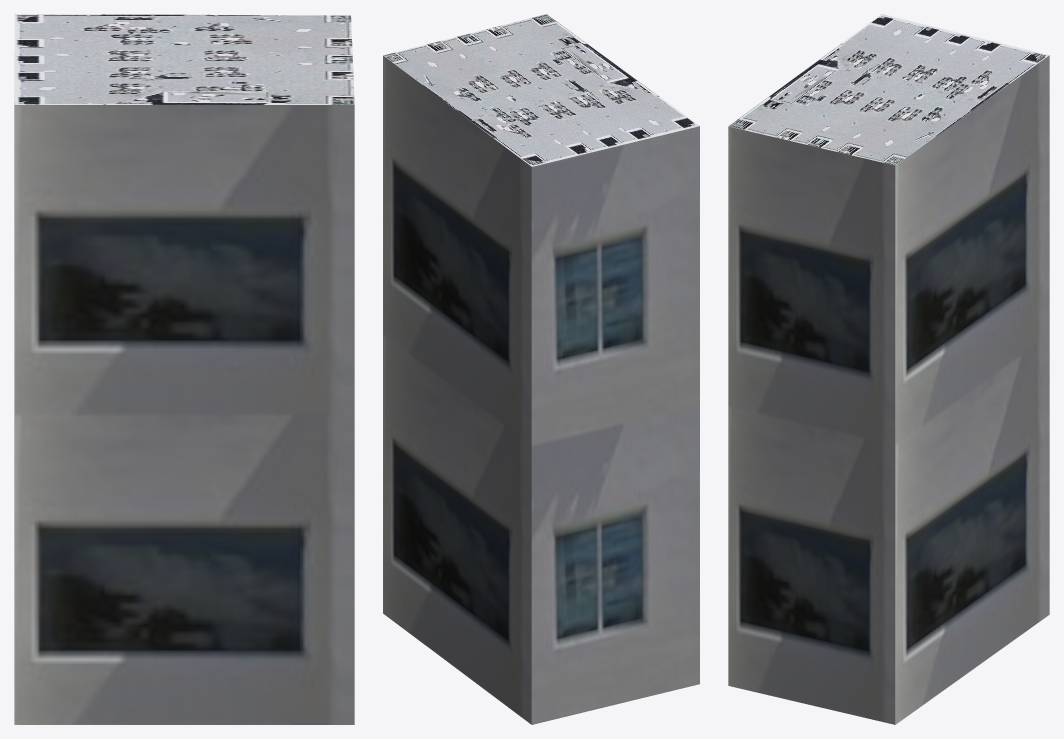
The model's file is ResTex__2438.fbx.
The picture shows the model from 3 angles, left to right: view 1: azimuth 30°, elevation 25°; view 2: azimuth 150°, elevation 25°; view 3: azimuth 270°, elevation 25°; orthographic projection. The views are drawn at different scales.
Visible parts, largest first — view 1: CityEngineMaterial_10_m, CityEngineMaterial_4_m; view 2: CityEngineMaterial_10_m, CityEngineMaterial_4_m; view 3: CityEngineMaterial_10_m, CityEngineMaterial_4_m.
Part boxes in pixels (box(x1,y1,x2,y2)): CityEngineMaterial_10_m: box(14, 105, 354, 724); CityEngineMaterial_4_m: box(14, 14, 354, 104); CityEngineMaterial_10_m: box(383, 56, 699, 724); CityEngineMaterial_4_m: box(383, 14, 699, 166); CityEngineMaterial_10_m: box(728, 55, 1049, 724); CityEngineMaterial_4_m: box(728, 14, 1049, 165).
Bounding box in the file's own units: 3.49 × 6 × 3.13.
Materials: 2 (2 with a texture image).
